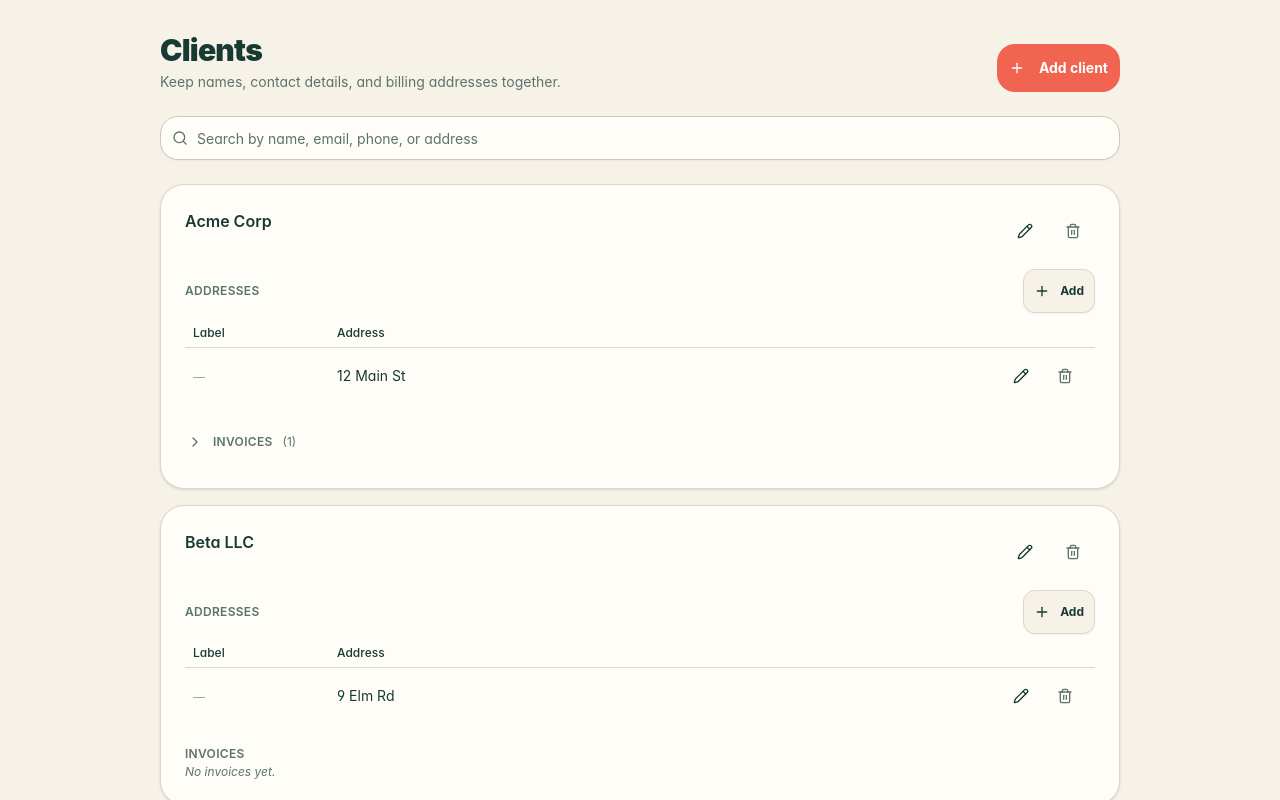
Test: filters clients by any field, including address
Expected: the text "Beta LLC" is shown, top-left (185, 530), bottom-right (254, 554)
Type "elm" into the search field named "Search clients" at point(640, 138), box top-left (160, 116), bottom-right (1120, 160)
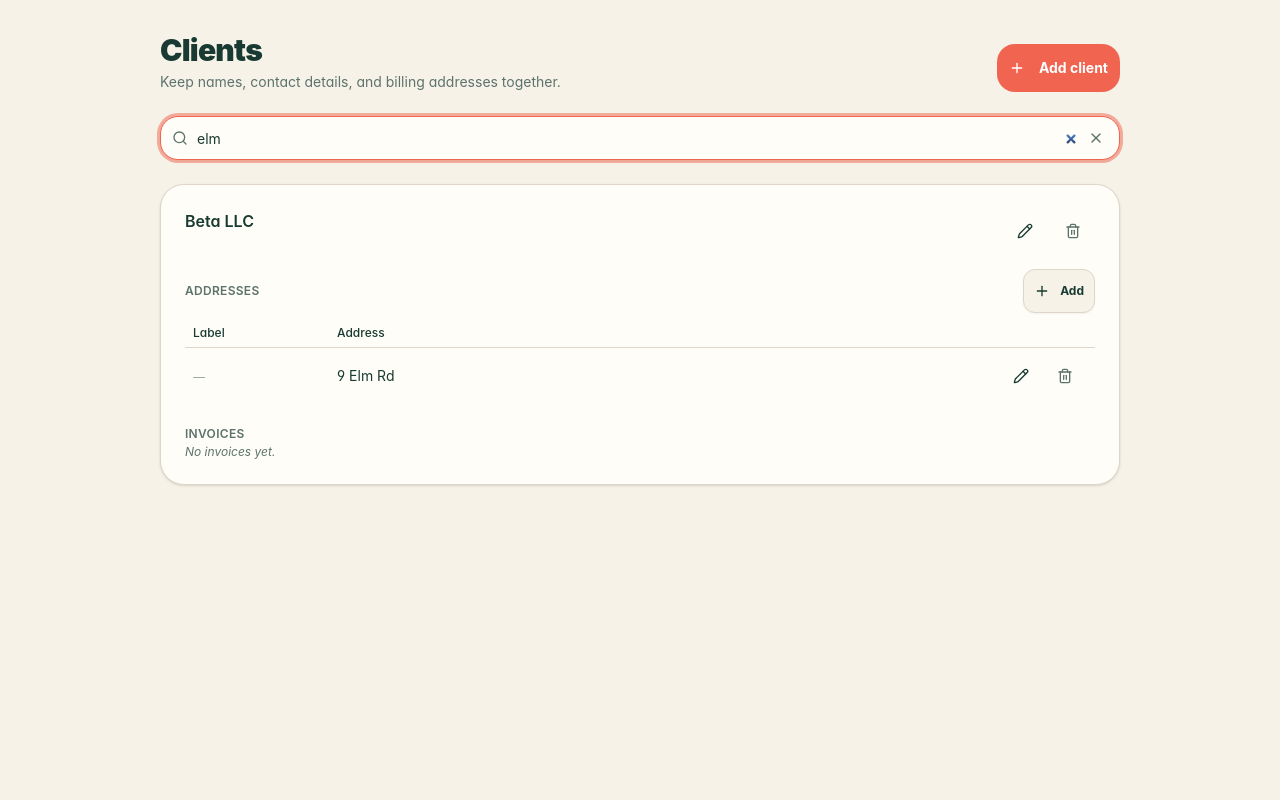
Expected: the text "Beta LLC" is shown, top-left (185, 209), bottom-right (254, 233)
Result: the text "Acme Corp" is gone
